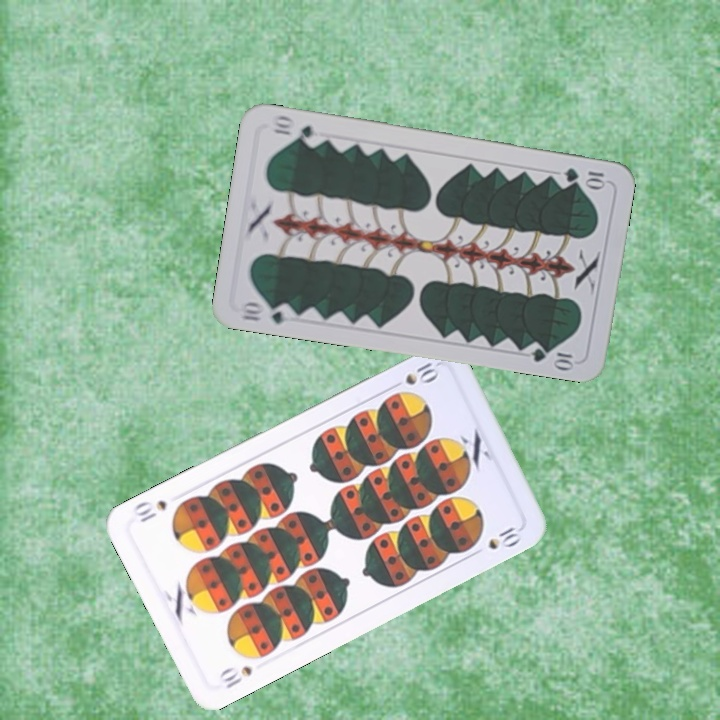G10: (236, 298, 296, 327), (560, 164, 608, 189)
S10: (401, 358, 443, 388), (215, 661, 255, 691)
